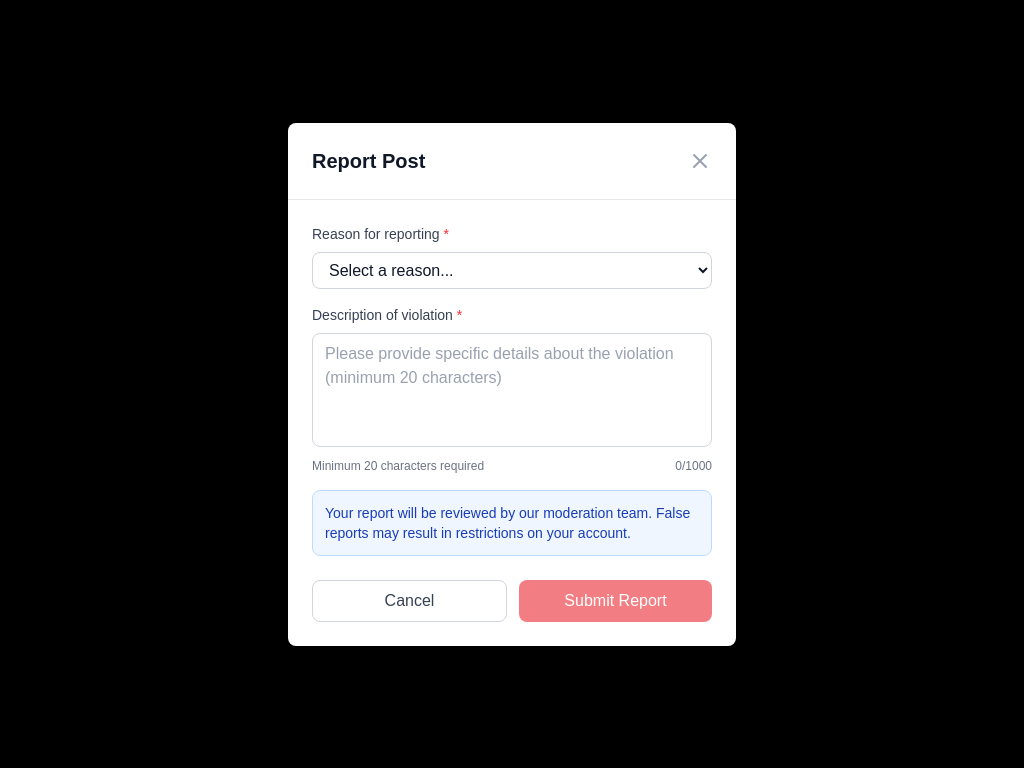
Test: Report Submission with Evidence - Integration Tests › Validation error handling for short descriptions › should prevent submission with description under 20 characters
This screenshot has width=1024, height=768.
# Select reason
Select "Spam or Misleading Content" in the dropdown labelled "Reason for reporting *": (512, 270) [312,252,712,288]
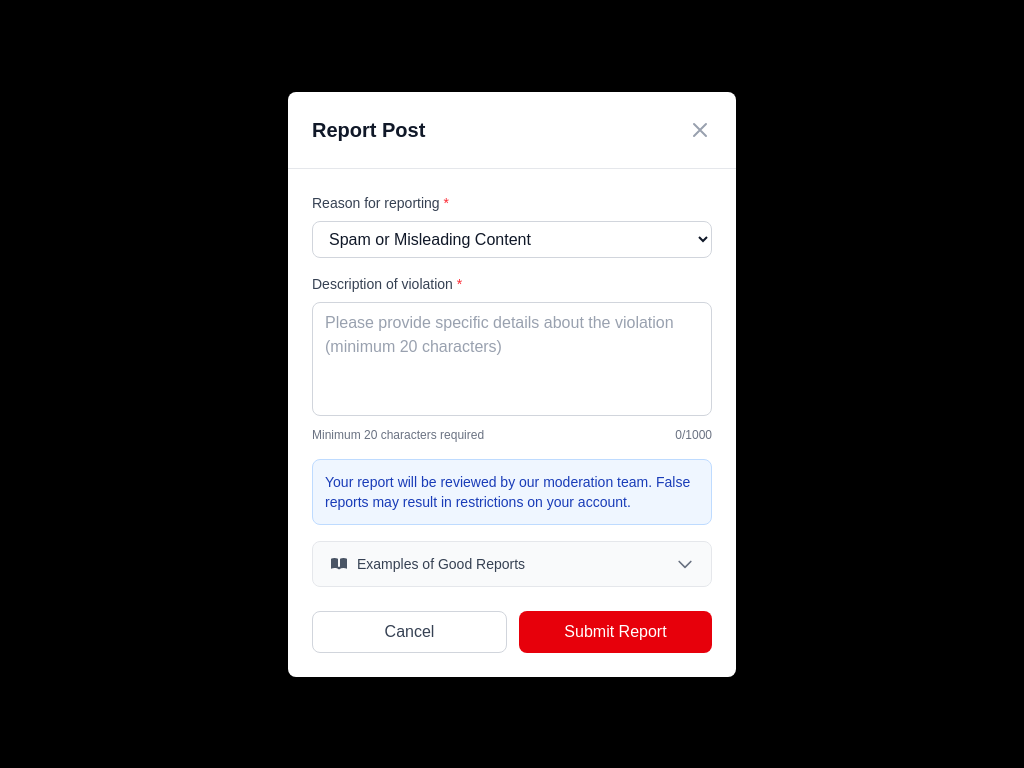
# Fill in short description (19 characters)
Replace the text in the text box labelled "Description of violation *" with "This is spam post": (512, 358) [312,302,712,416]
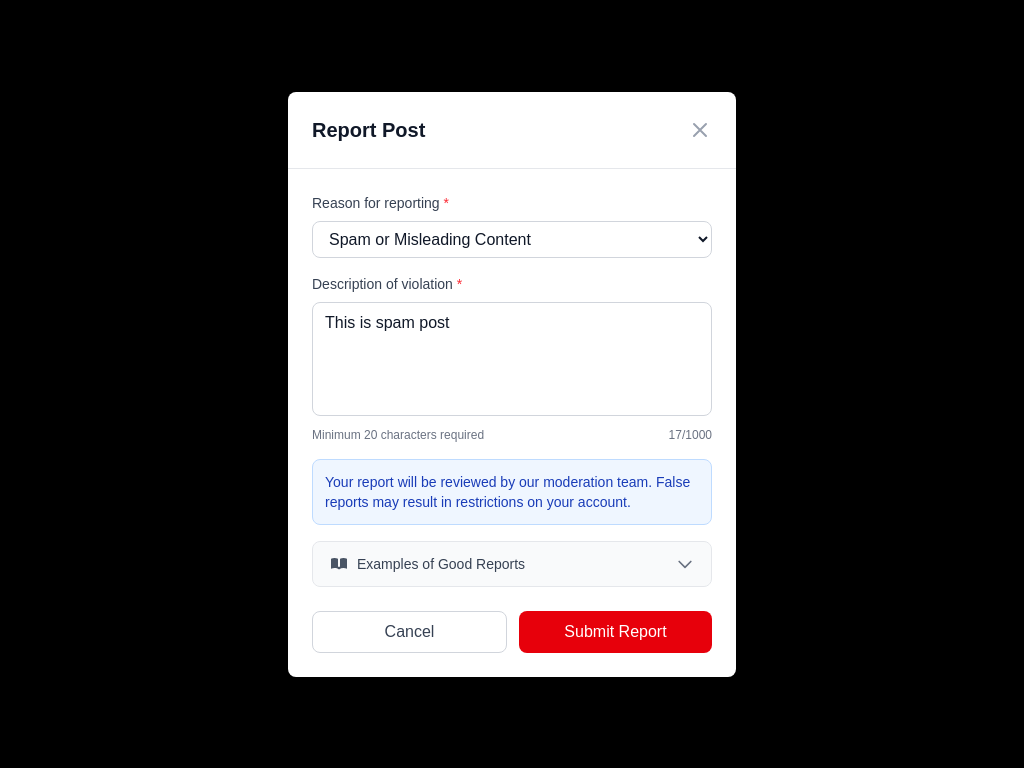
# Try to submit
Click the button "Submit Report": (616, 632) [519,610,712,652]
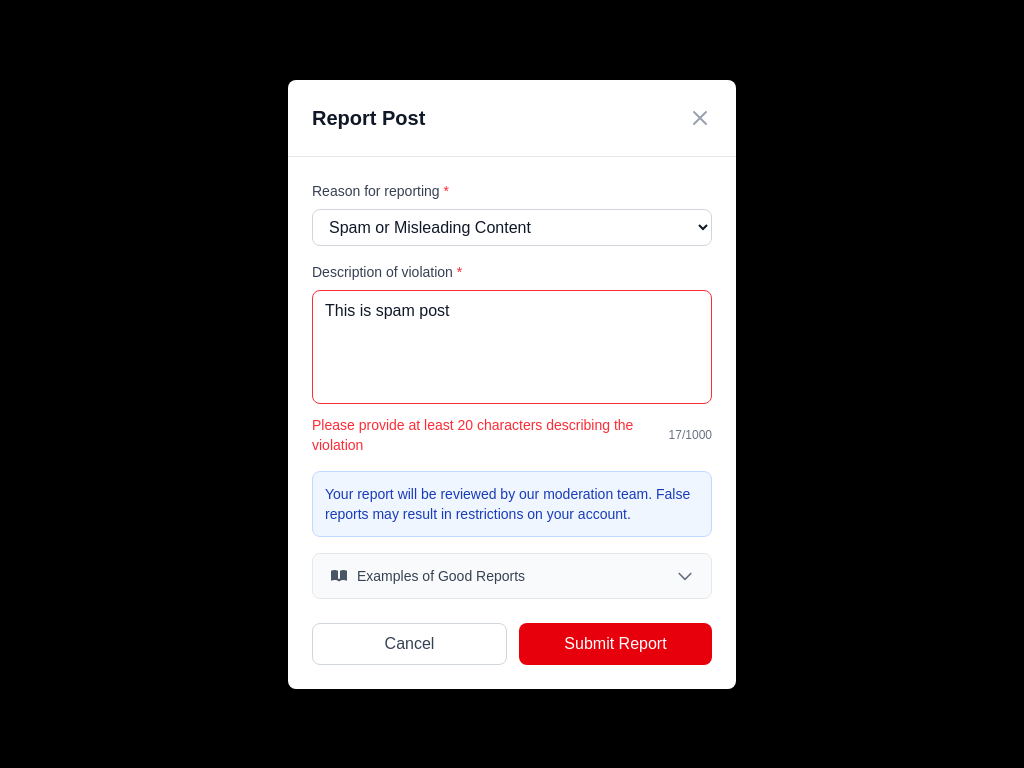
Expected: the text "Please provide at least 20 characters describing the violation" is shown, [312,414,669,454]
